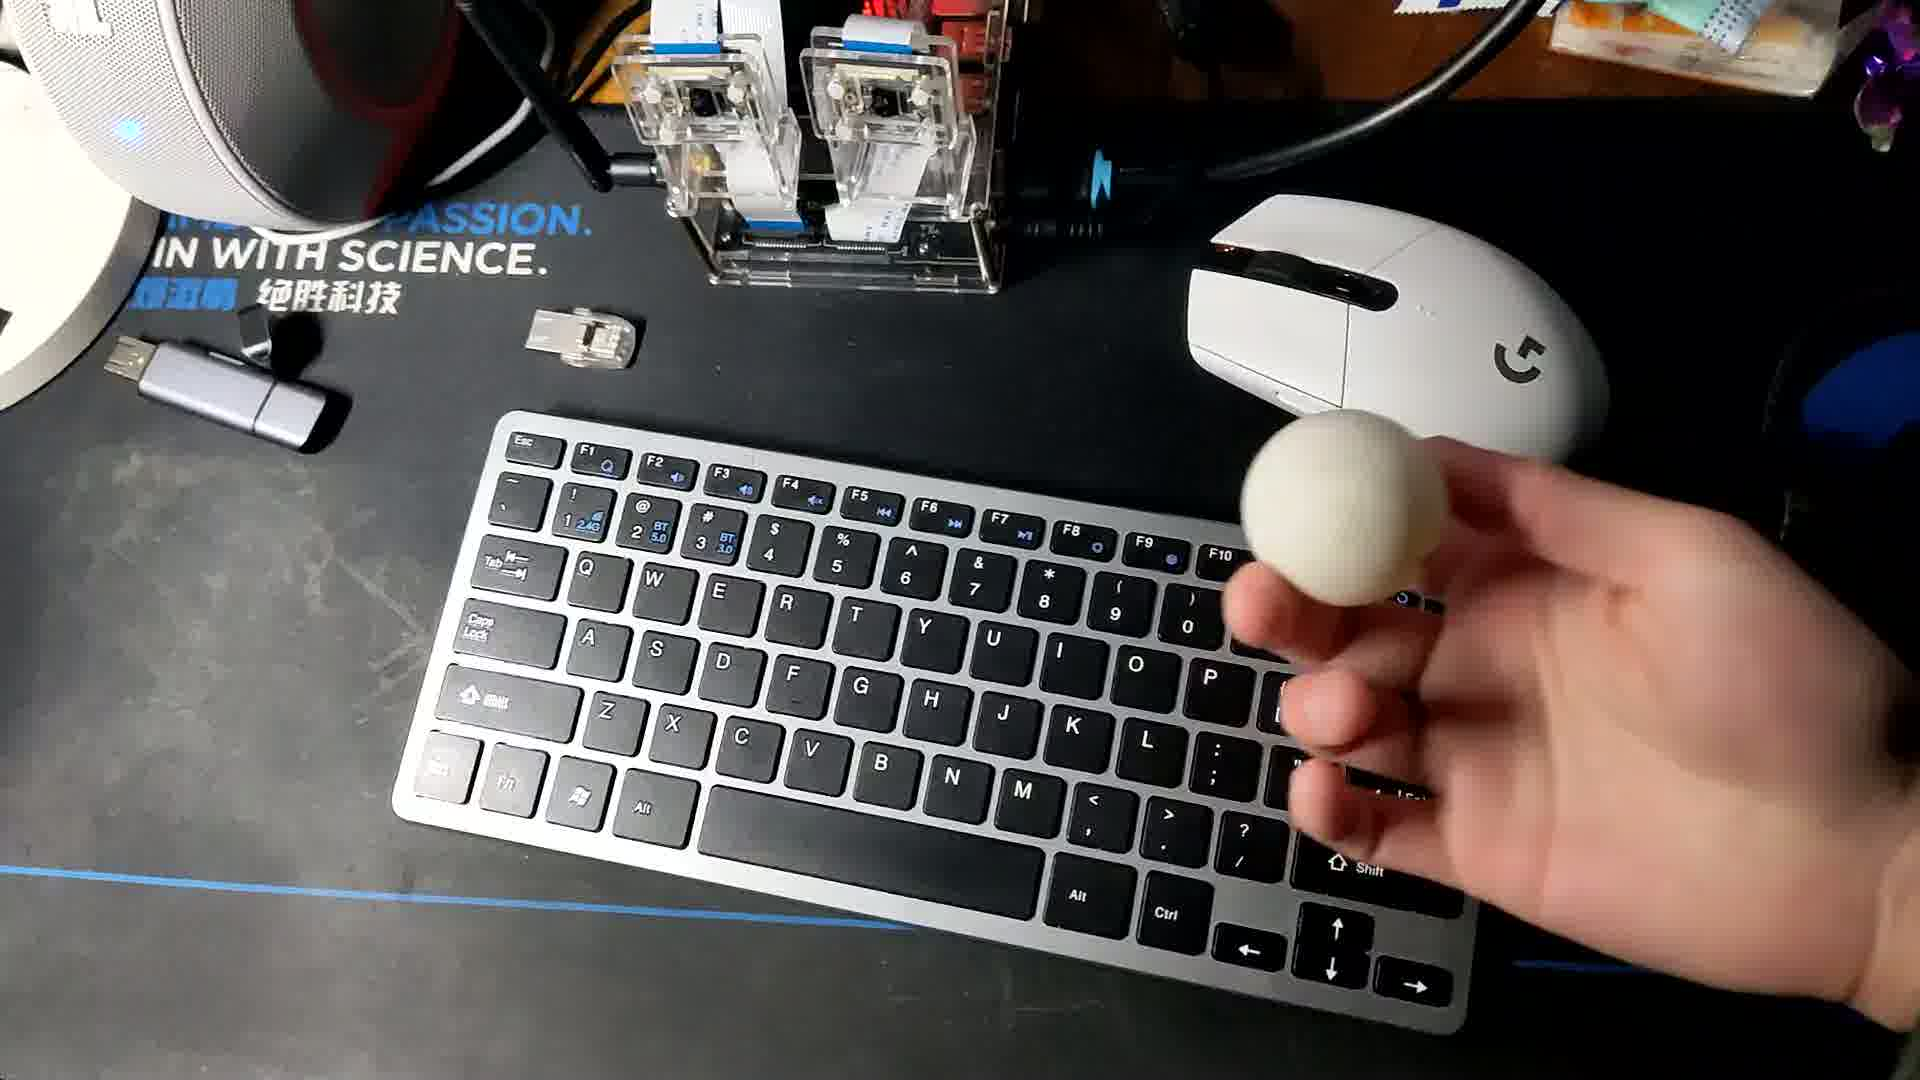Ball: (1244, 407, 1440, 611)
